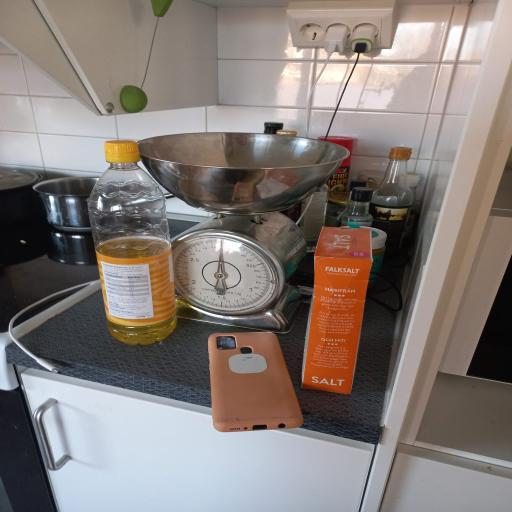phone: (209, 332, 302, 431)
